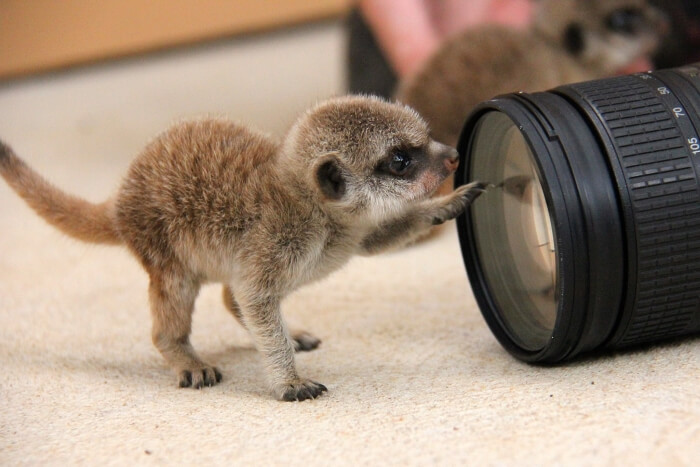meerkat: (87, 68, 493, 426)
